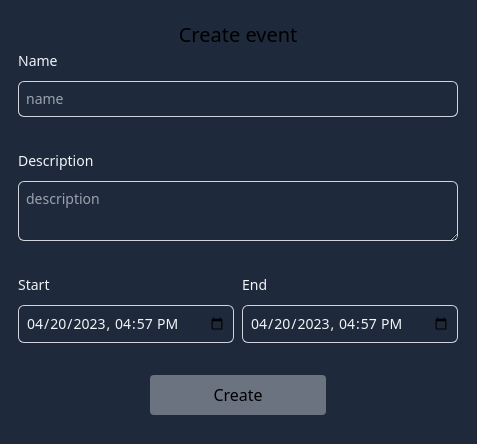
Test: Create Event › with invalid input › shows an error message when name is too long
The width and height of the screenshot is (477, 444).
In the field labelled "Name": x=238, y=99 x1=18 y1=81 x2=458 y2=117, type "Name toooooooo long.....!!!!!!!!!!!"
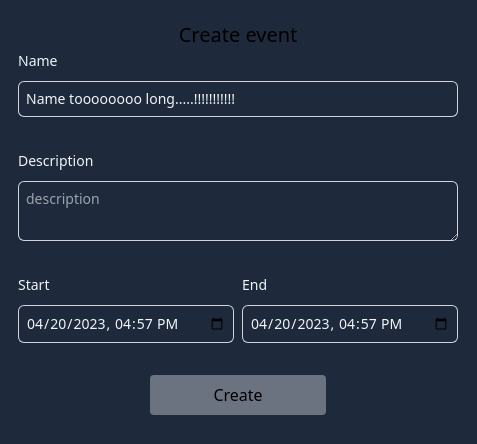
In the text box labelled "Description": x=238, y=211 x1=18 y1=181 x2=458 y2=241, type "Test Description"
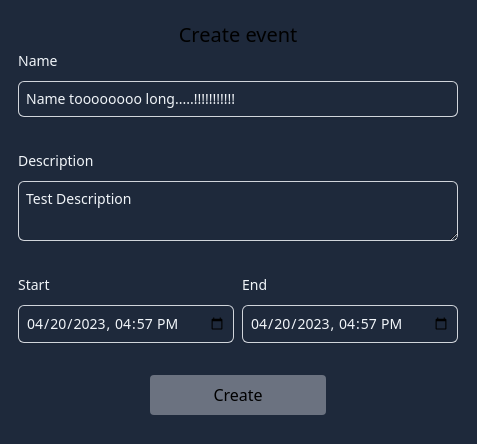
Replace the text in the field labelled "Start" with "2025-09-01T09:00": x=126, y=324 x1=18 y1=305 x2=234 y2=343
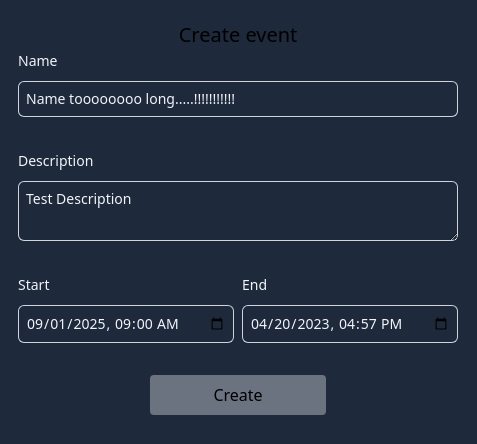
Replace the text in the field labelled "End" with "2025-09-01T10:00": x=350, y=324 x1=242 y1=305 x2=458 y2=343
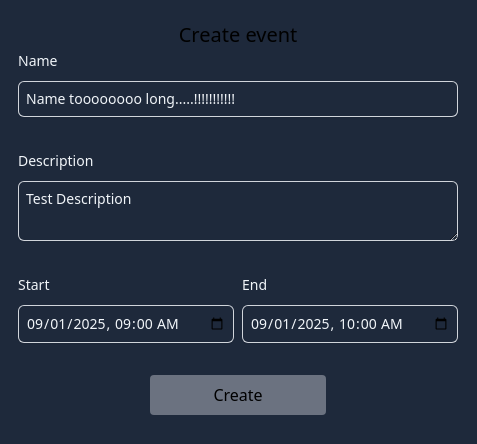
Submit the form from the button, box x1=150 y1=375 x2=326 y2=415
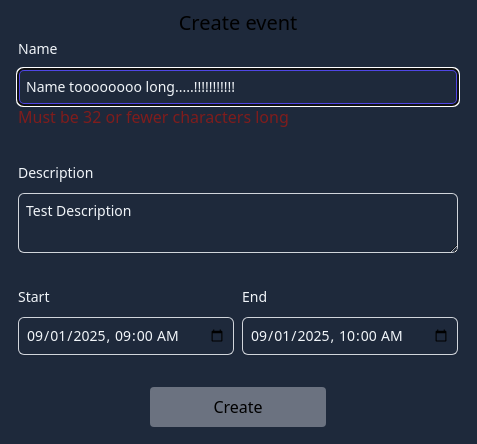
expect the button is disabled: met, box x1=150 y1=387 x2=326 y2=427
expect the text with test id "error-name" reads "Must be 32 or fewer characters long": met, box x1=18 y1=106 x2=289 y2=128
